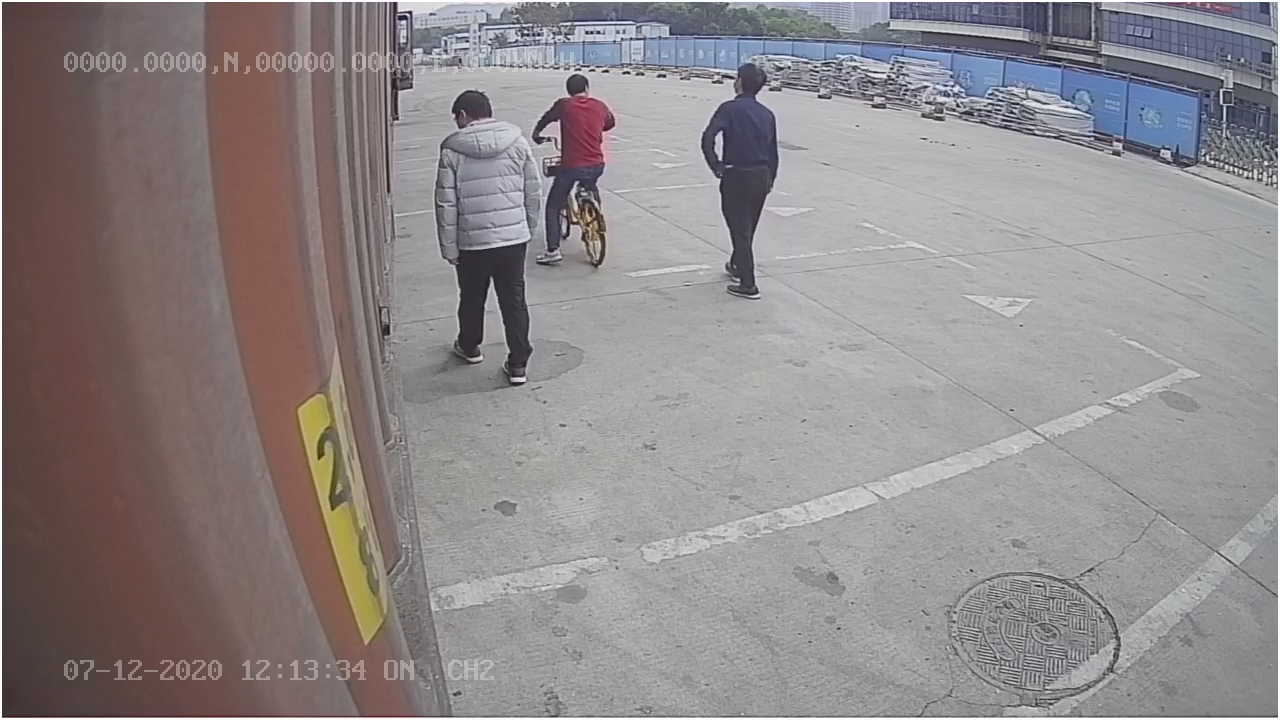person: (698, 58, 786, 304)
